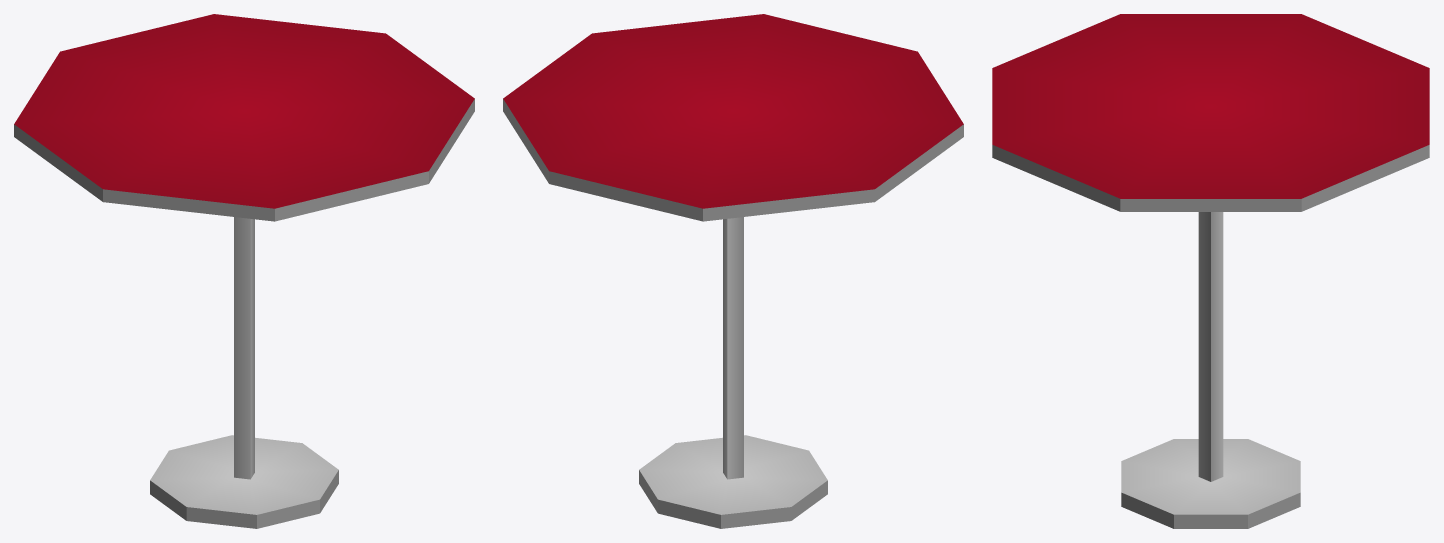
Rendered from Simple Round Table.fbx.
The picture shows the model from 3 angles, left to right: view 1: azimuth 30°, elevation 25°; view 2: azimuth 150°, elevation 25°; view 3: azimuth 270°, elevation 25°; orthographic projection.
Parts seen in each view (by area): view 1: Simple Round Table; view 2: Simple Round Table; view 3: Simple Round Table.
Part boxes in pixels (x1,y1,x2,y2): Simple Round Table: [14, 14, 474, 528]; Simple Round Table: [503, 14, 963, 528]; Simple Round Table: [992, 14, 1429, 528].
Bounding box in the file's own units: 80.22 × 77.85 × 80.22.
